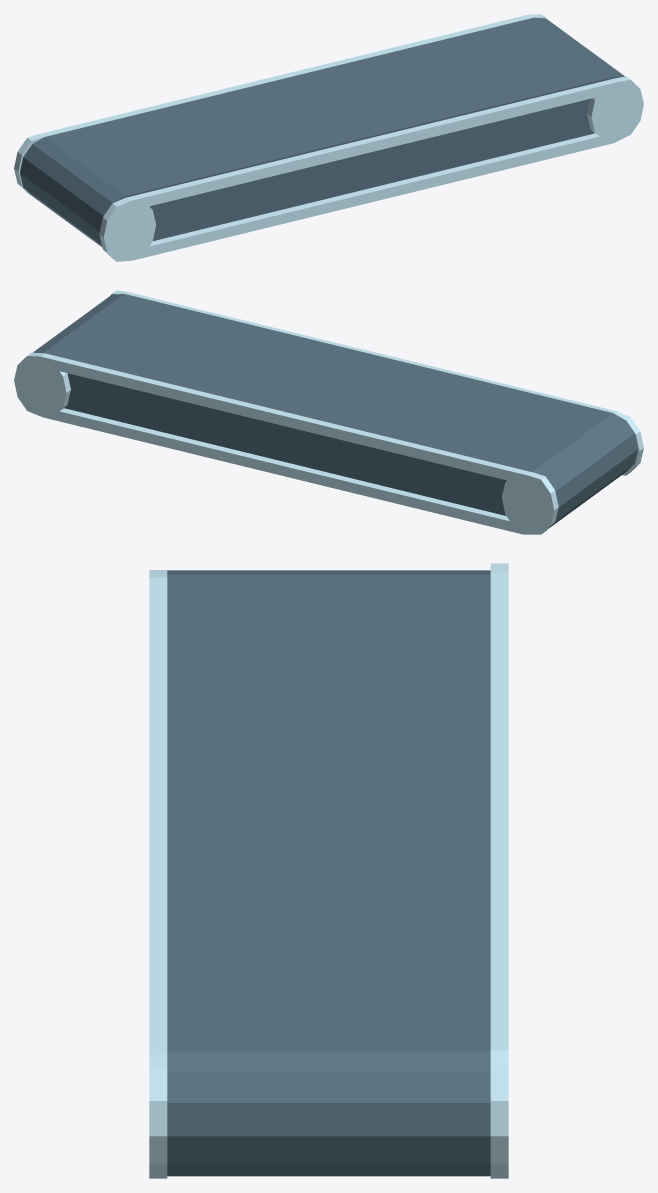
Rendered from conveyor2.glb.
The picture shows the model from 3 angles, top to bottom: view 1: azimuth 30°, elevation 25°; view 2: azimuth 150°, elevation 25°; view 3: azimuth 270°, elevation 25°; orthographic projection. The views are drawn at different scales.
Parts seen in each view (by area): view 1: group1751849987, group1395806188, group1407714466; view 2: group1751849987, group1407714466, group1395806188; view 3: group1751849987, group1407714466, group1395806188.
Part boxes in pixels (x1,y1,x2,y2): group1751849987: (20,17,624,246); group1395806188: (99,76,643,261); group1407714466: (14,14,548,195); group1751849987: (33,294,637,528); group1407714466: (14,352,558,534); group1395806188: (110,290,643,475); group1751849987: (167,570,490,1176); group1407714466: (490,563,508,1178); group1395806188: (149,570,167,1178).
Size of the model in its own units: 7.04 by 0.7707 by 2.03.
